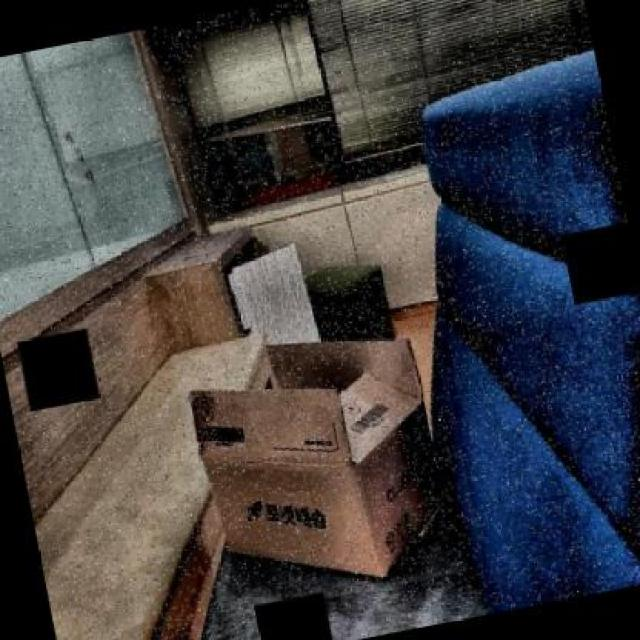box: (170, 304, 484, 618)
